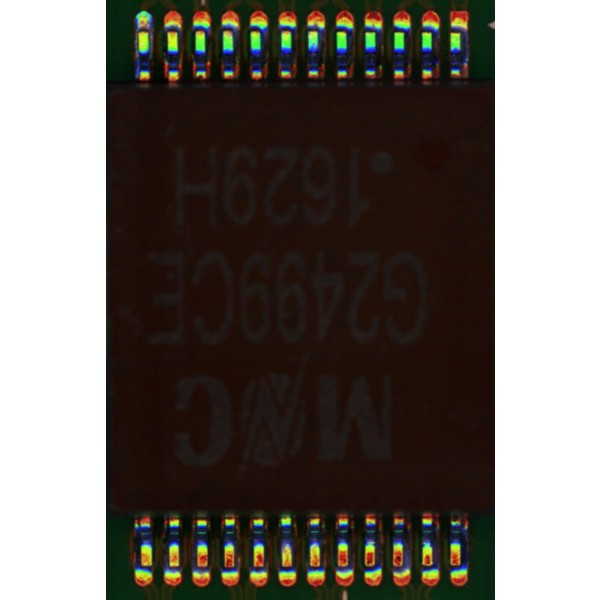Bad_podu: (139, 23, 147, 37)
Bad_qiaojiao: (134, 33, 138, 79), (149, 31, 154, 63)
